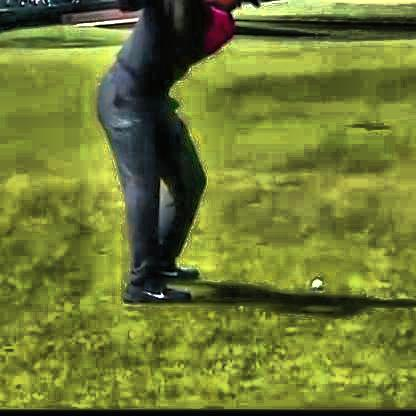golfball: (307, 273, 320, 289)
